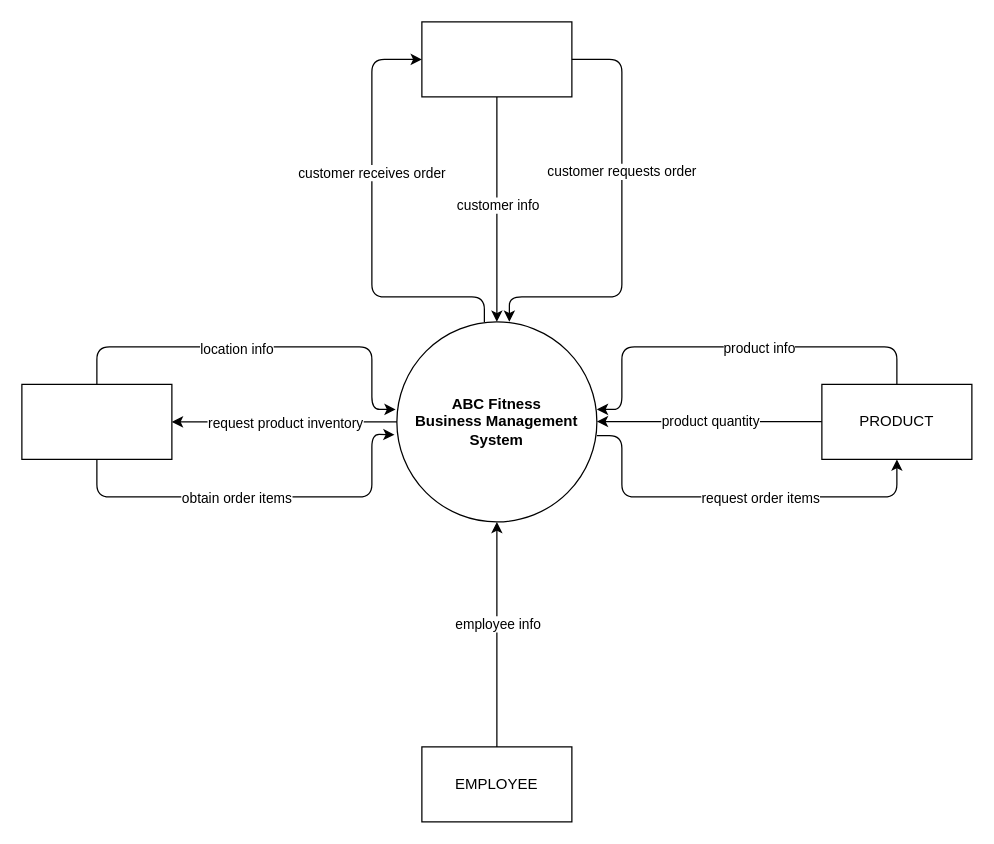
This 994x844 diagram has some shape labels left out. The centre of each missing label's shape, as x and y in pixels:
"CUSTOMER" belongs at (x=496, y=59).
"WAREHOUSE" belongs at (x=96, y=421).
